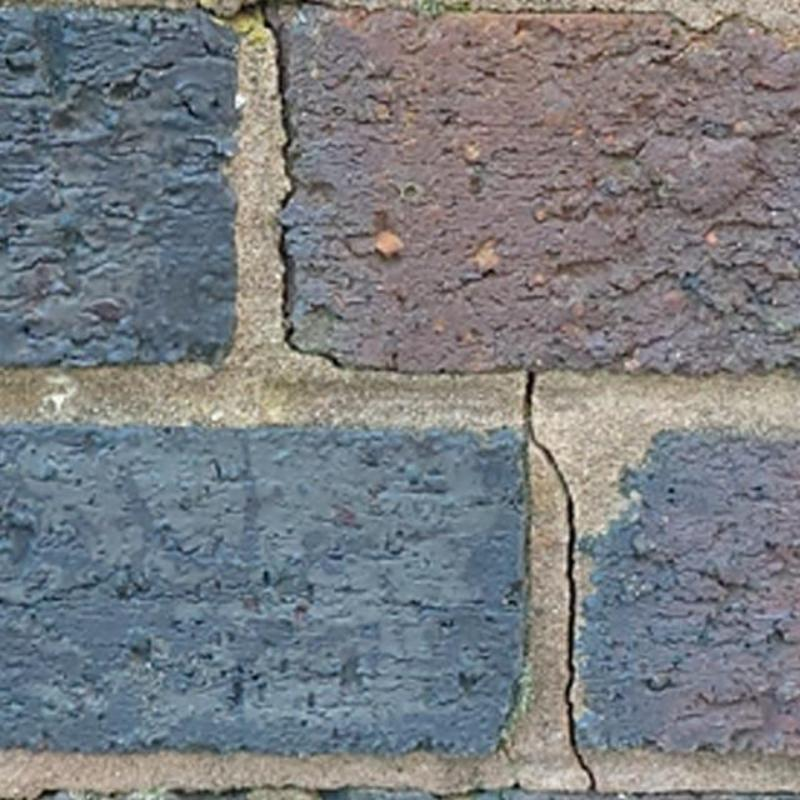crack: (255, 1, 350, 375), (525, 371, 594, 786)
